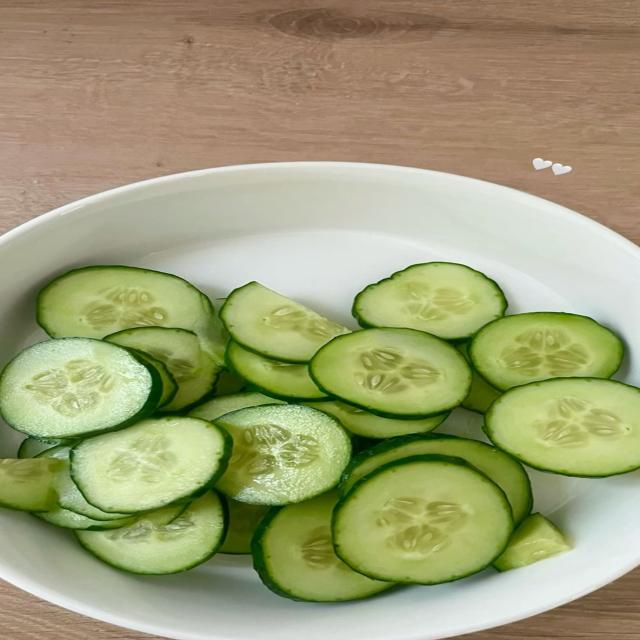cucumber sliced: (333, 456, 513, 584), (340, 435, 532, 523), (0, 338, 161, 438), (72, 416, 231, 513), (485, 378, 639, 477), (253, 493, 393, 601), (310, 328, 471, 419), (215, 405, 351, 505), (38, 266, 214, 338), (76, 491, 226, 574), (353, 262, 506, 340), (469, 313, 623, 389), (220, 282, 348, 363), (105, 327, 219, 411), (38, 446, 130, 520), (227, 342, 326, 401), (307, 401, 449, 439), (494, 514, 571, 571), (0, 459, 63, 511), (188, 392, 284, 420), (220, 500, 269, 554), (136, 350, 178, 409), (34, 507, 140, 530), (34, 507, 138, 530), (461, 370, 500, 413), (215, 370, 246, 395), (18, 438, 56, 458)
